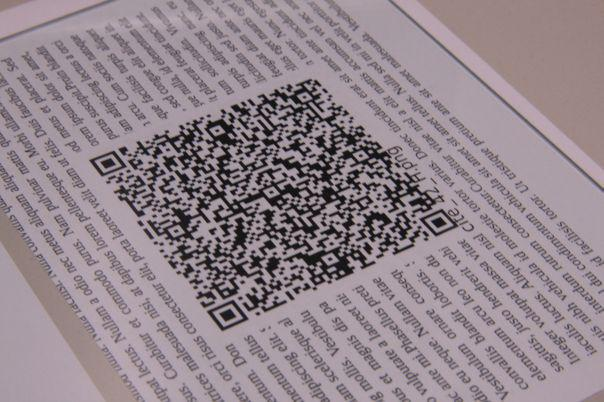Finder pattern: (418, 207, 457, 240), (209, 300, 250, 330), (89, 151, 130, 176)
